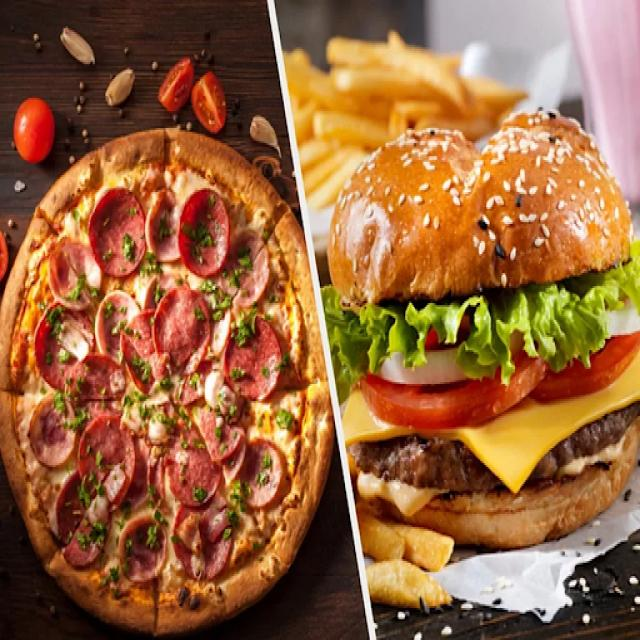burger: (324, 109, 640, 546)
pizza: (0, 126, 335, 640)
